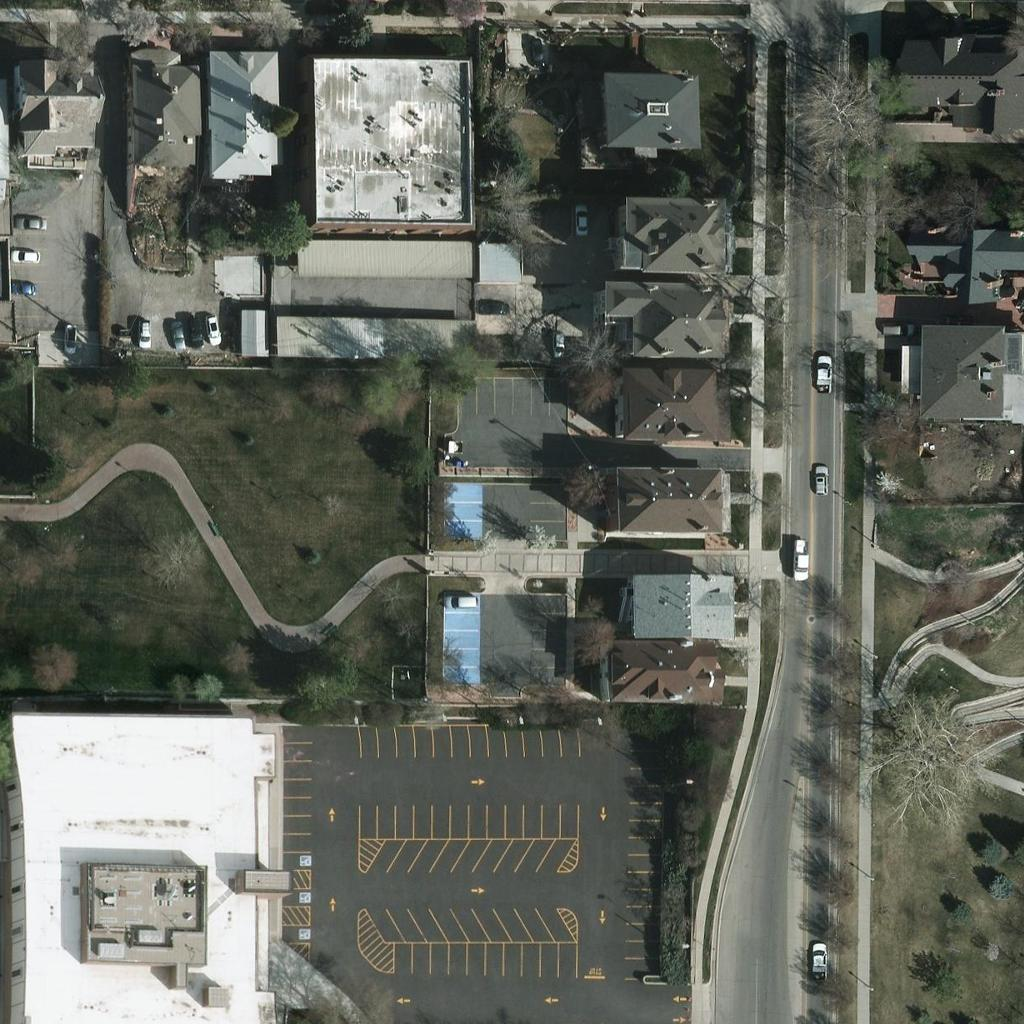car: (519, 33, 553, 67), (566, 202, 600, 236), (15, 204, 49, 238), (9, 238, 43, 272), (9, 271, 43, 305), (478, 290, 512, 324), (934, 303, 968, 337), (195, 311, 229, 345), (875, 312, 909, 346), (177, 314, 211, 348), (126, 315, 160, 349), (161, 317, 195, 351), (55, 324, 89, 358), (542, 325, 576, 359), (803, 356, 837, 390), (801, 464, 835, 498), (785, 545, 819, 579), (444, 584, 478, 618), (800, 943, 834, 977)
